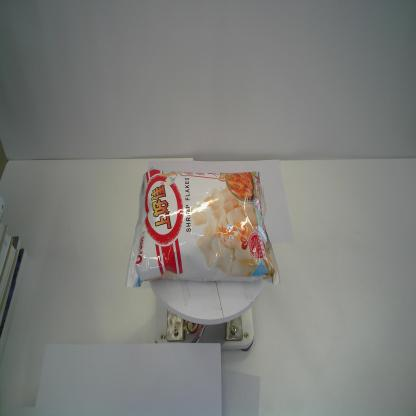Puffed Food: (123, 165, 283, 291)
